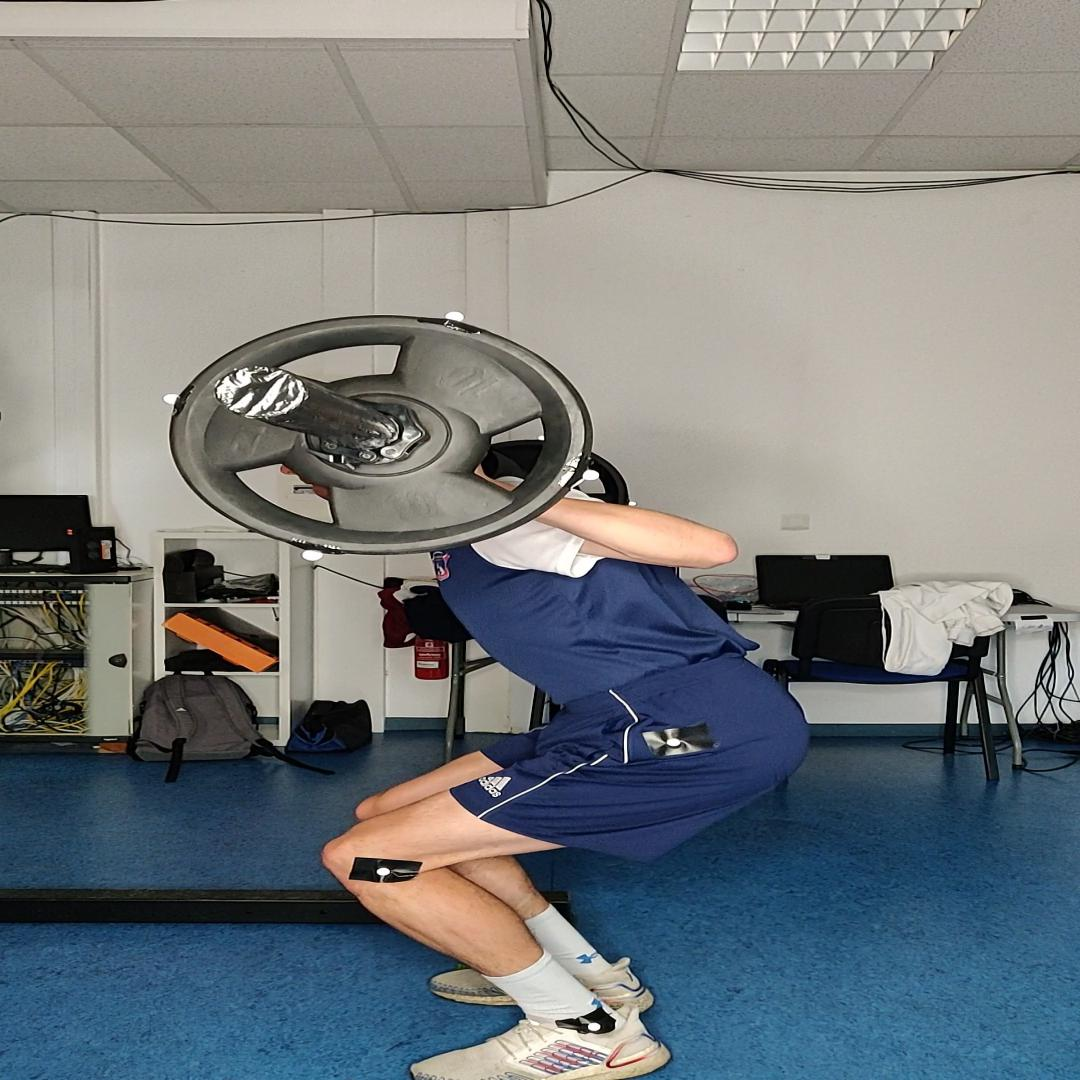Bar: (216, 366, 308, 418)
Barbell: (170, 315, 592, 555)
